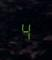four: (19, 19, 30, 40)
